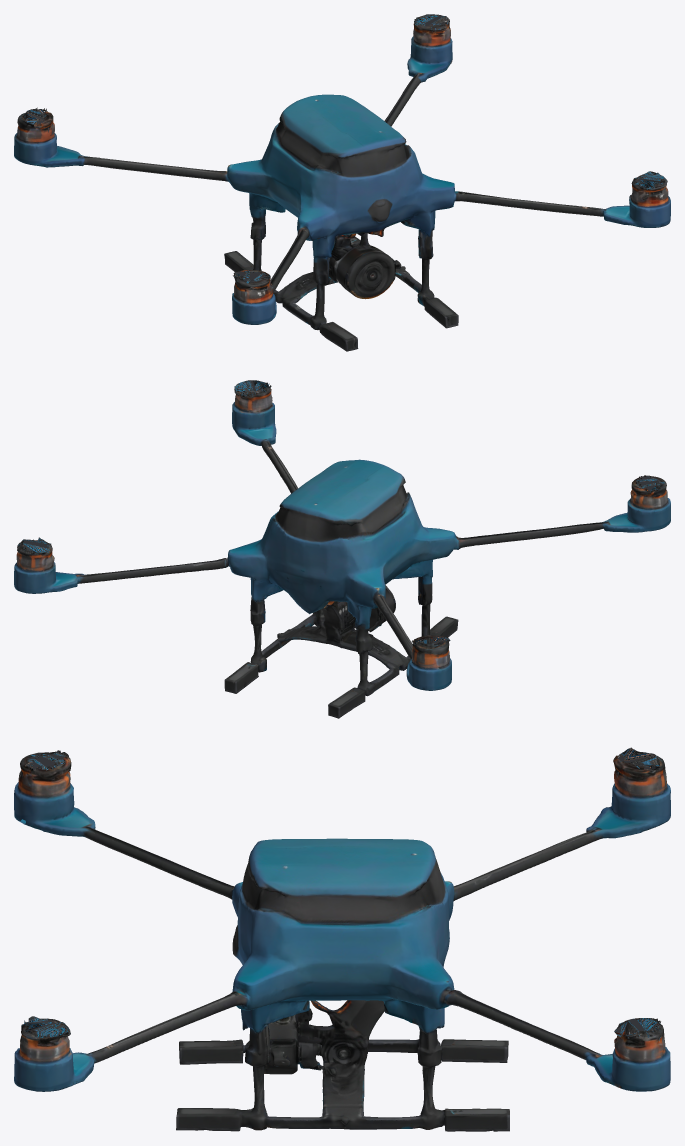
Rendered from drone16.glb.
3 views of the same model, one above another, from view 1: azimuth 30°, elevation 25°; view 2: azimuth 150°, elevation 25°; view 3: azimuth 270°, elevation 25° (orthographic). The views are drawn at different scales.
Parts seen in each view (by area): view 1: Mesh_0; view 2: Mesh_0; view 3: Mesh_0.
Boxes of the visible parts, bbox=[...] form: Mesh_0: bbox=[14, 14, 670, 351]; Mesh_0: bbox=[14, 380, 670, 718]; Mesh_0: bbox=[14, 747, 670, 1131].
Size of the model in its own units: 1.38 by 0.536 by 1.33.
1 material, 1 textured.
